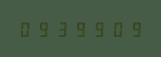nine: (35, 20, 52, 37), (71, 20, 88, 37), (89, 20, 106, 37), (125, 20, 142, 37)
three: (53, 20, 70, 37)
zero: (17, 20, 34, 37), (107, 20, 124, 37)
